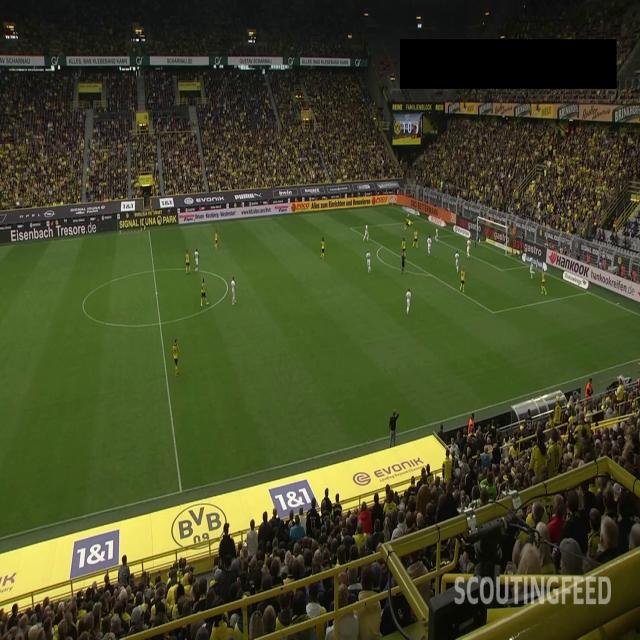ball: (407, 213, 410, 218)
team1: (172, 338, 180, 378), (200, 277, 209, 307), (184, 249, 192, 275), (459, 265, 466, 293), (541, 268, 547, 296), (413, 228, 419, 250), (321, 236, 326, 259), (404, 217, 412, 231), (402, 236, 407, 256), (214, 230, 219, 249)
team2: (404, 287, 412, 315), (230, 277, 237, 307), (528, 254, 536, 280), (195, 248, 201, 274), (366, 249, 372, 274), (454, 249, 460, 273), (363, 222, 369, 244), (466, 237, 471, 261), (427, 237, 431, 256), (435, 226, 439, 242)
